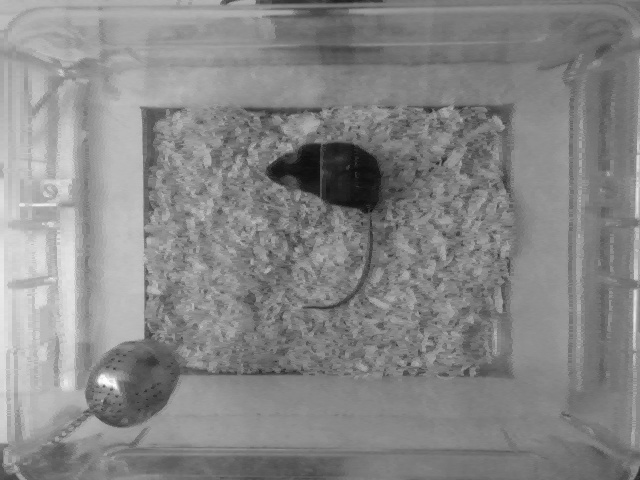mice: (256, 135, 387, 311)
